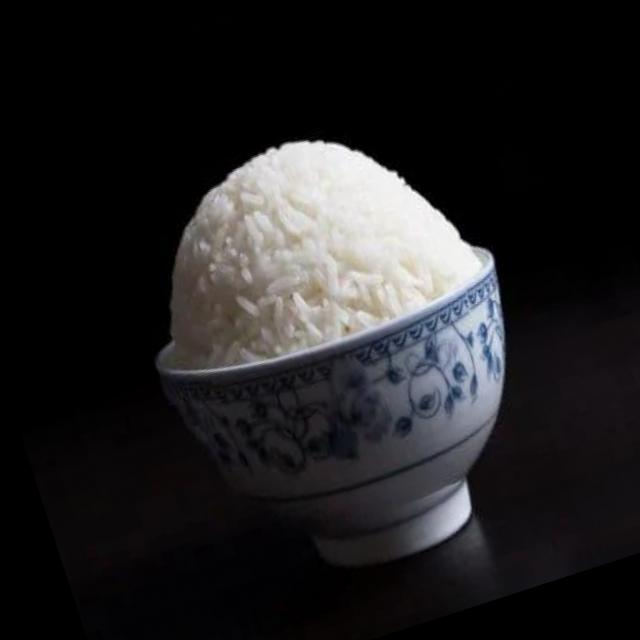rice: (162, 135, 483, 371)
